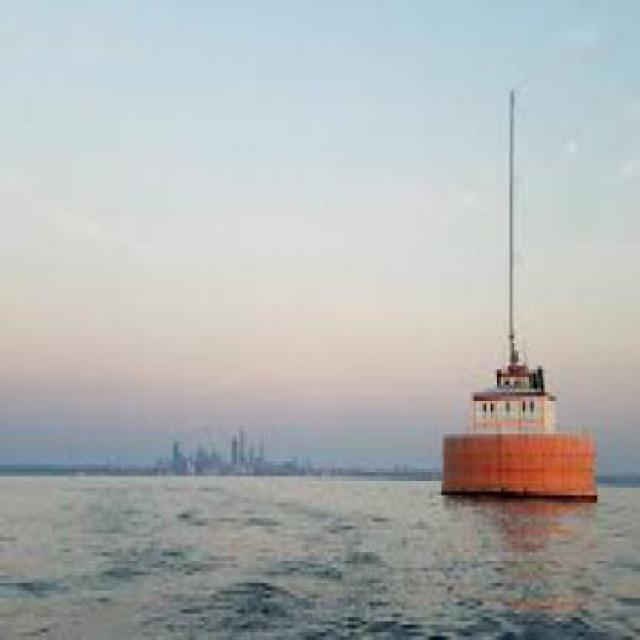buoy: (432, 54, 609, 523)
